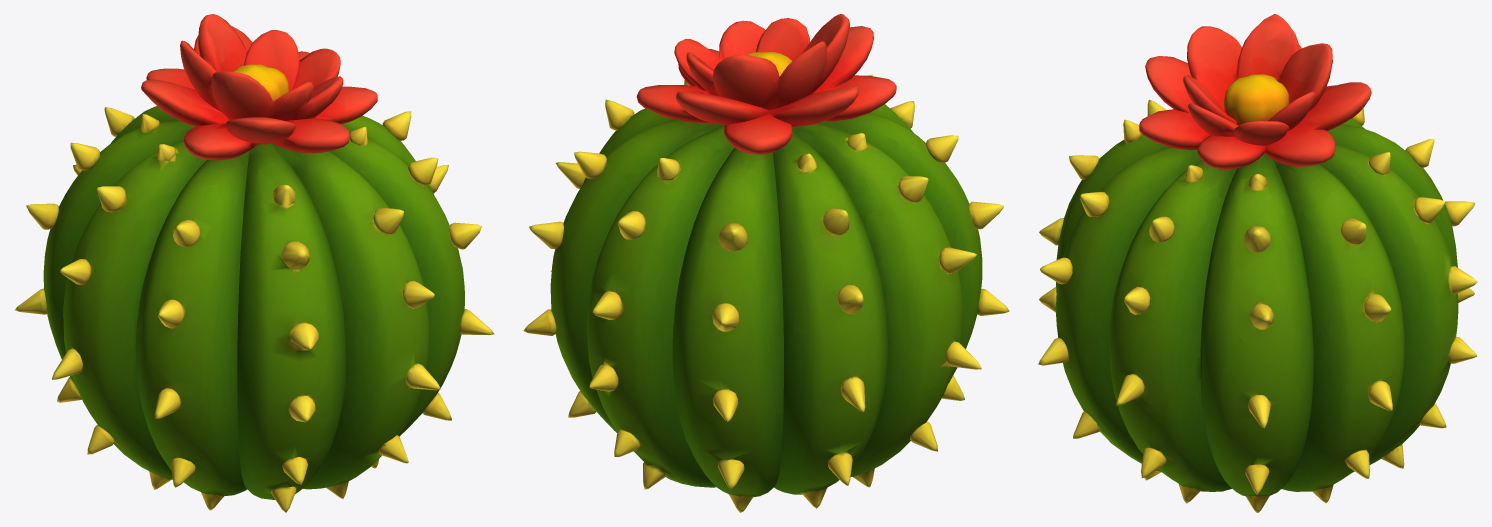
The model's file is cactus_barrel.glb.
The picture shows the model from 3 angles, left to right: view 1: azimuth 30°, elevation 25°; view 2: azimuth 150°, elevation 25°; view 3: azimuth 270°, elevation 25°; orthographic projection. The views are drawn at different scales.
Visible parts, largest first — view 1: tripo_node_0a5dca9e-86b1-44a8-8923-97bc530cceed; view 2: tripo_node_0a5dca9e-86b1-44a8-8923-97bc530cceed; view 3: tripo_node_0a5dca9e-86b1-44a8-8923-97bc530cceed.
Boxes of the visible parts, x1,y1,x2,y2 form: tripo_node_0a5dca9e-86b1-44a8-8923-97bc530cceed: [14, 14, 494, 512]; tripo_node_0a5dca9e-86b1-44a8-8923-97bc530cceed: [523, 14, 1009, 512]; tripo_node_0a5dca9e-86b1-44a8-8923-97bc530cceed: [1038, 14, 1477, 512].
Bounding box in the file's own units: 0.8922 × 0.8999 × 0.8424.
1 material, 1 textured.
